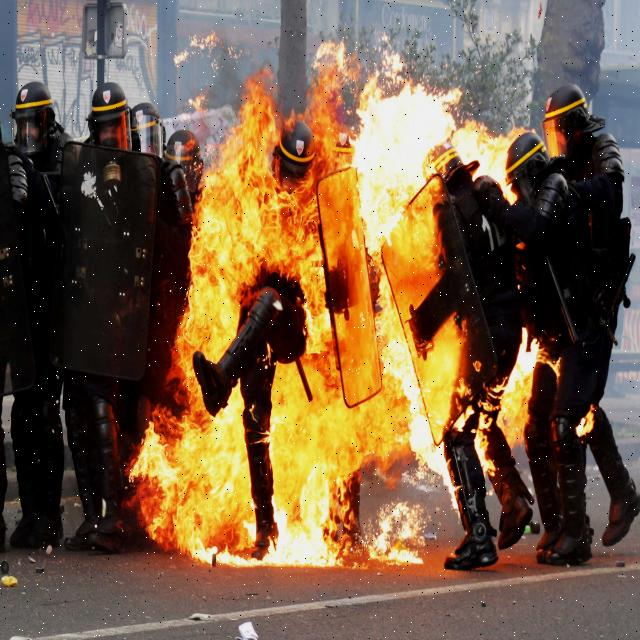police: (372, 94, 521, 615), (509, 58, 640, 592), (71, 66, 201, 538), (0, 58, 101, 558)
